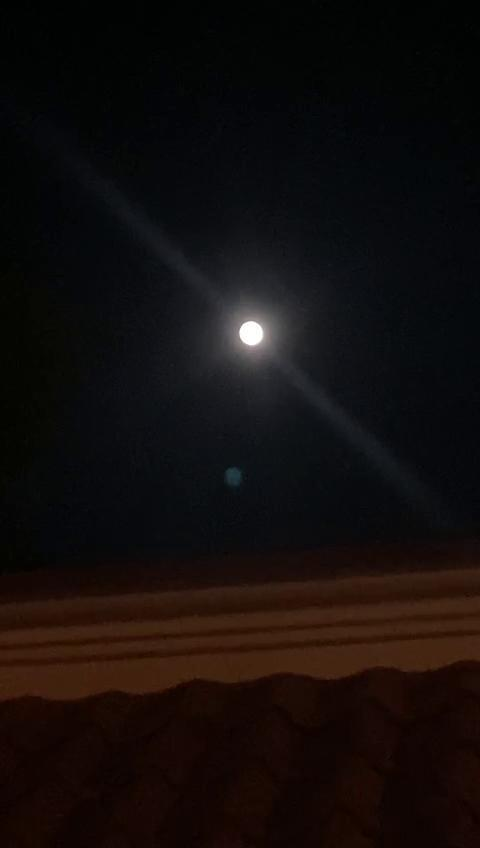moon: (241, 314, 272, 346)
